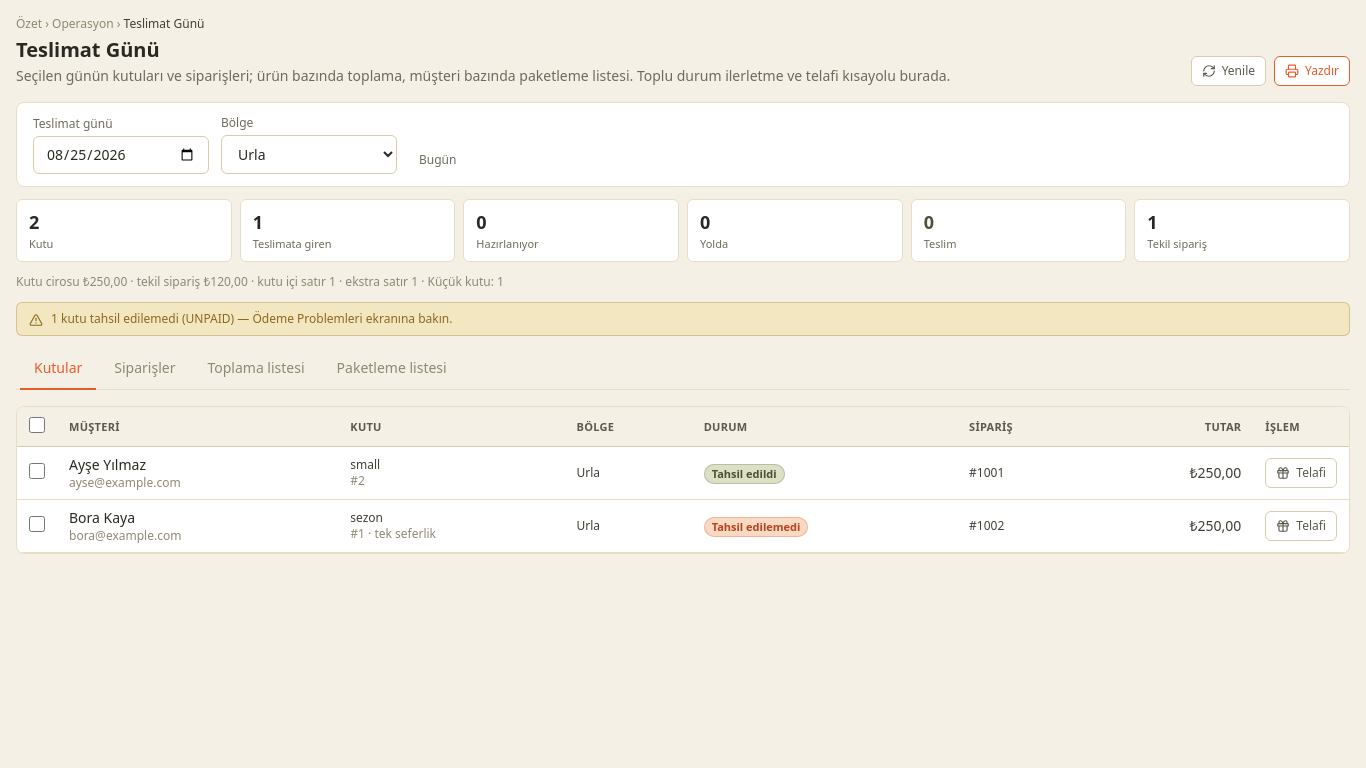
Scenario: AdminTeslimatGunuPage (ekran 20) › paketleme listesi fişleri müşteri bazında, tercih ve notla birlikte basar
The width and height of the screenshot is (1366, 768).
Expected: the link "Ayşe Yılmaz" is shown, [69,455,146,474]
Click the tab "Paketleme listesi".
click(392, 368)  # box [323,348,461,390]
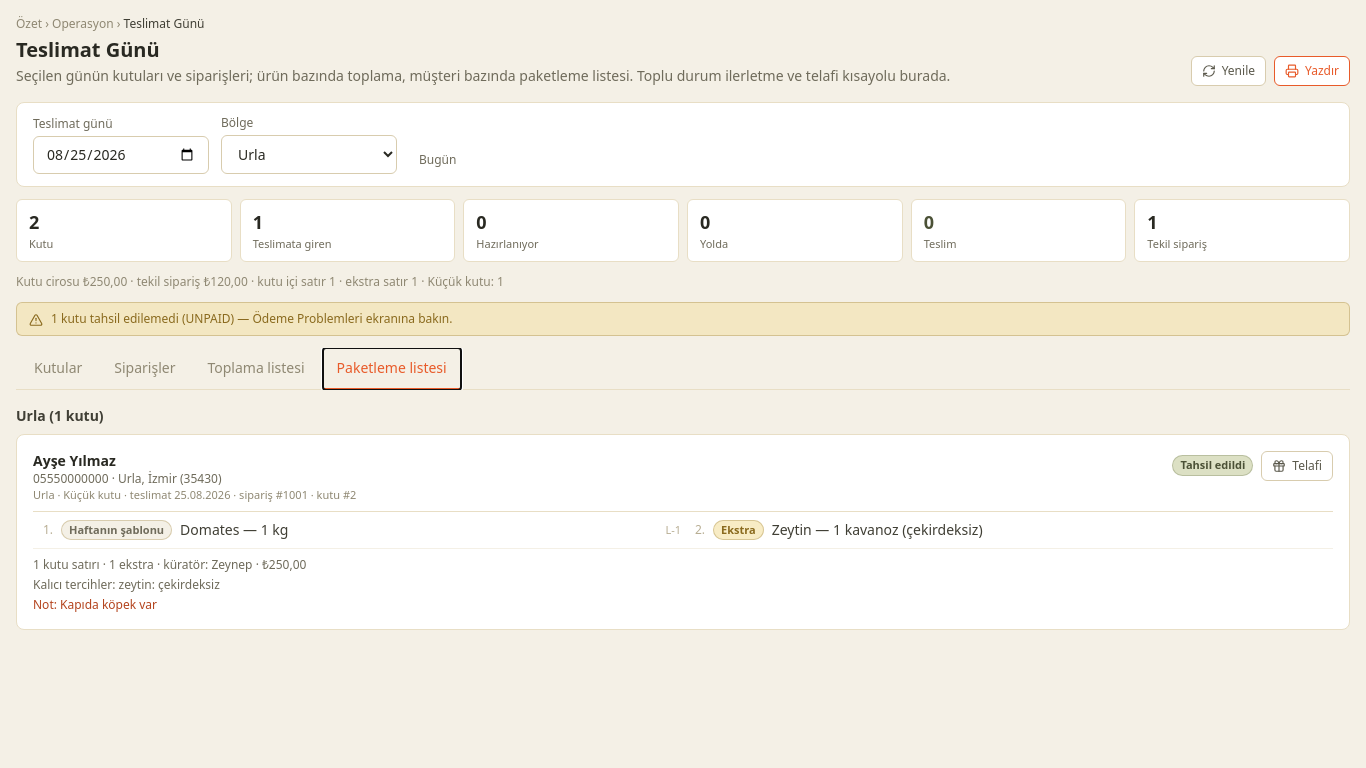
Expected: the text "05550000000 · Urla, İzmir (35430)" is shown, [33,470,222,486]
Expected: the text "Zeytin — 1 kavanoz (çekirdeksiz)" is shown, [772,520,983,539]
Expected: the text "1 kutu satırı · 1 ekstra · küratör: Zeynep · ₺250,00" is shown, [33,548,1333,573]
